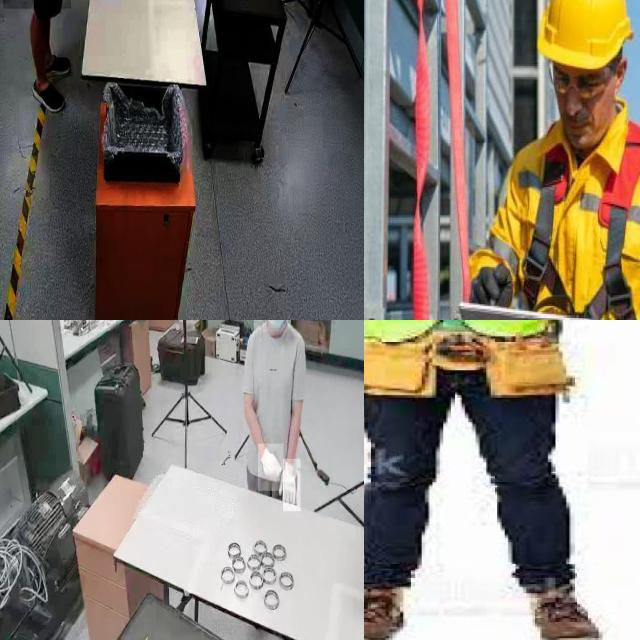Harness: (522, 122, 640, 320)
face_mask: (263, 320, 289, 331)
hand_glove: (258, 444, 284, 492), (283, 459, 301, 512)
person: (242, 320, 312, 502)
shoes: (31, 73, 69, 119)
